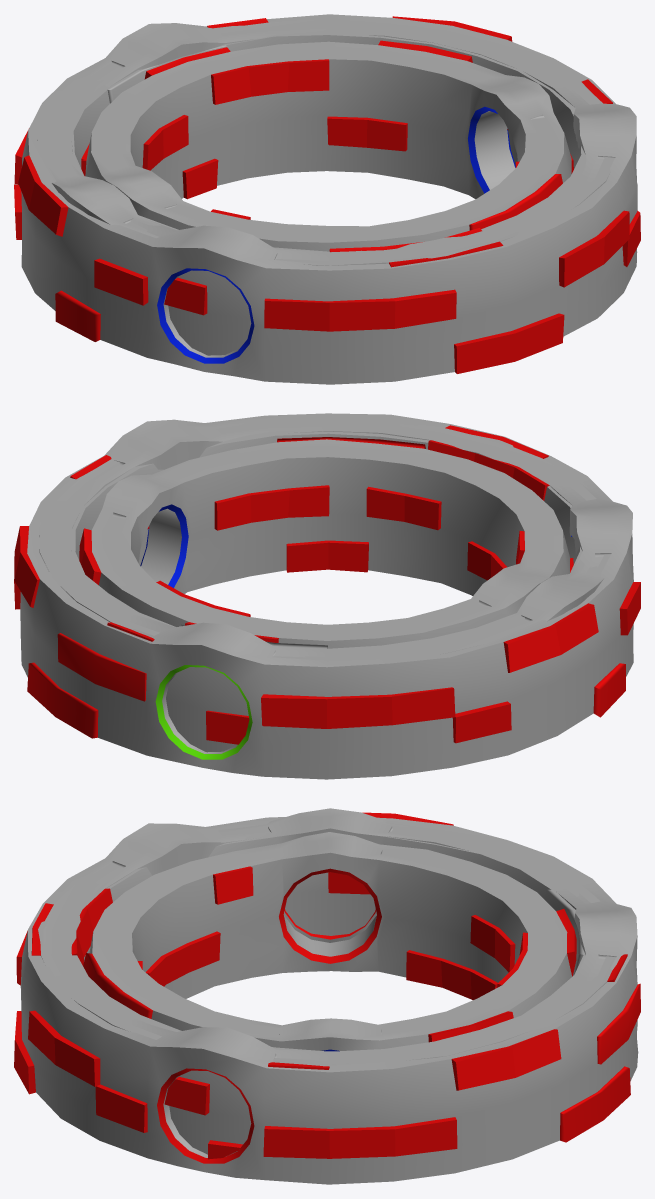
File: Depo Rings.fbx
3 views of the same model, one above another, from view 1: azimuth 30°, elevation 25°; view 2: azimuth 150°, elevation 25°; view 3: azimuth 270°, elevation 25° (orthographic).
Parts seen in each view (by area): view 1: Flame_Depo_3_hole, Fram_Depo_2_Hole, Frame_Depo_1_hole; view 2: Flame_Depo_3_hole, Fram_Depo_2_Hole, Frame_Depo_1_hole; view 3: Flame_Depo_3_hole, Fram_Depo_2_Hole, Frame_Depo_1_hole.
Boxes of the visible parts, x1,y1,x2,y2 form: Flame_Depo_3_hole: (14, 14, 640, 384); Fram_Depo_2_Hole: (81, 40, 571, 251); Frame_Depo_1_hole: (37, 18, 614, 355); Flame_Depo_3_hole: (14, 413, 640, 779); Fram_Depo_2_Hole: (79, 437, 573, 648); Frame_Depo_1_hole: (39, 418, 610, 752); Flame_Depo_3_hole: (14, 812, 640, 1184); Fram_Depo_2_Hole: (83, 832, 576, 1051); Frame_Depo_1_hole: (31, 808, 627, 1159).
Size of the model in its own units: 1697 by 372 by 1682.
